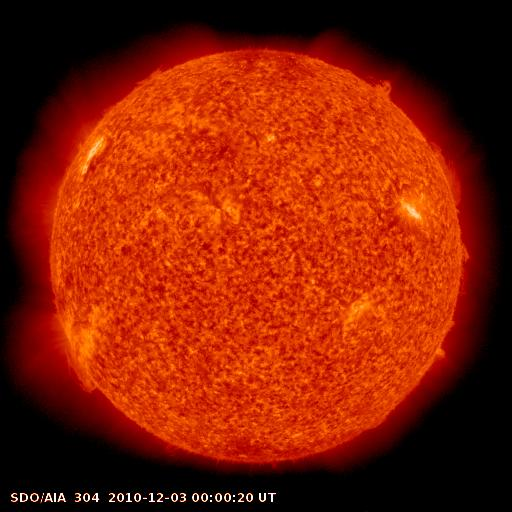prominence: (50, 316, 106, 398), (425, 133, 475, 215), (453, 231, 486, 296), (359, 62, 403, 109), (428, 314, 464, 371), (131, 59, 179, 96)
